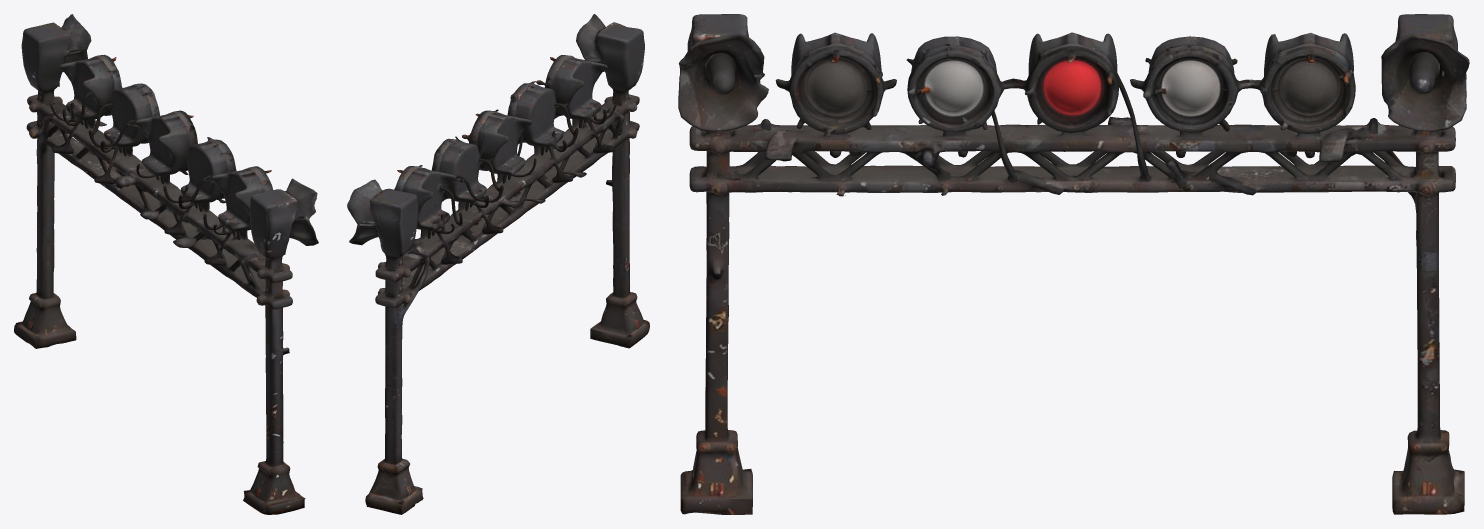
Rendered from race_start_lights.glb.
3 views of the same model, side by side, from view 1: azimuth 30°, elevation 25°; view 2: azimuth 150°, elevation 25°; view 3: azimuth 270°, elevation 25° (orthographic). The views are drawn at different scales.
Visible parts, largest first — view 1: tripo_node_15f7ecd8-81c2-4c66-b7e8-5b1f3ddfc715; view 2: tripo_node_15f7ecd8-81c2-4c66-b7e8-5b1f3ddfc715; view 3: tripo_node_15f7ecd8-81c2-4c66-b7e8-5b1f3ddfc715.
Part boxes in pixels (x1,y1,x2,y2): tripo_node_15f7ecd8-81c2-4c66-b7e8-5b1f3ddfc715: (14,14,318,514); tripo_node_15f7ecd8-81c2-4c66-b7e8-5b1f3ddfc715: (347,14,649,514); tripo_node_15f7ecd8-81c2-4c66-b7e8-5b1f3ddfc715: (678,14,1469,514).
Bounding box in the file's own units: 0.1468 × 0.6609 × 0.9734.
Materials: 1 (1 with a texture image).
